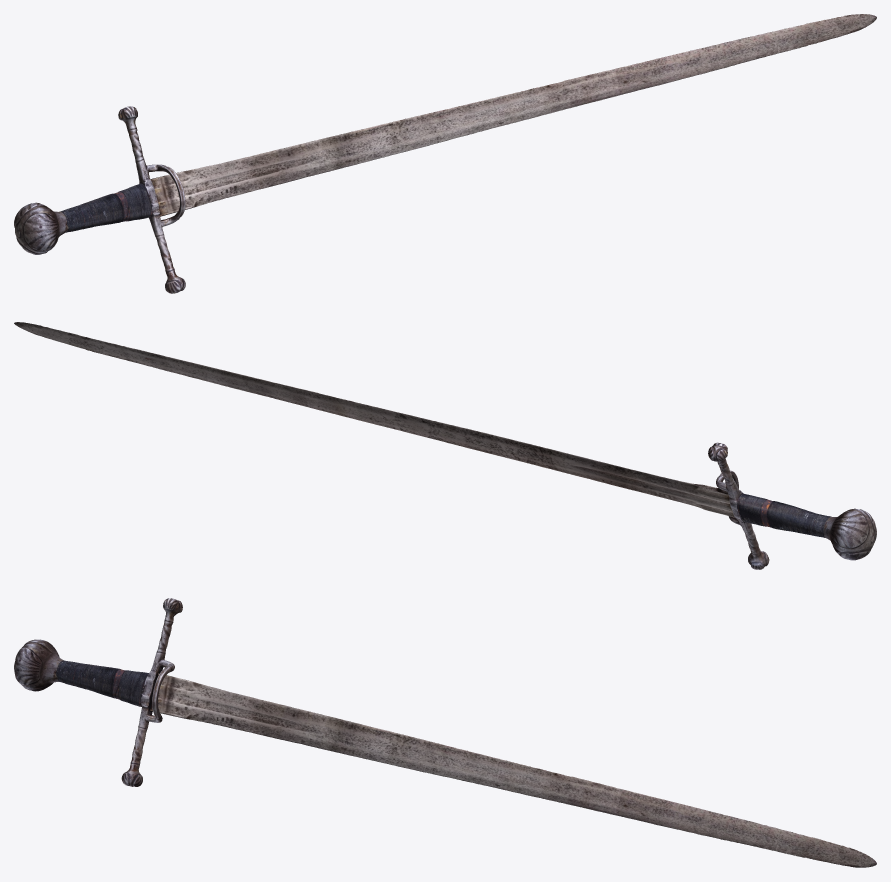
The model's file is italian_arming_sword.glb.
3 views of the same model, one above another, from view 1: azimuth 30°, elevation 25°; view 2: azimuth 150°, elevation 25°; view 3: azimuth 330°, elevation 25° (orthographic).
Visible parts, largest first — view 1: Object_2, Object_3; view 2: Object_2, Object_3; view 3: Object_2, Object_3.
Boxes of the visible parts, x1,y1,x2,y2 form: Object_2: (14,14,876,293); Object_3: (134,107,269,288); Object_2: (14,322,876,569); Object_3: (621,443,751,564); Object_2: (14,598,876,867); Object_3: (131,600,268,785).
Size of the model in its own units: 2.27 by 0.3945 by 0.2439.
Materials: 1 (1 with a texture image).
